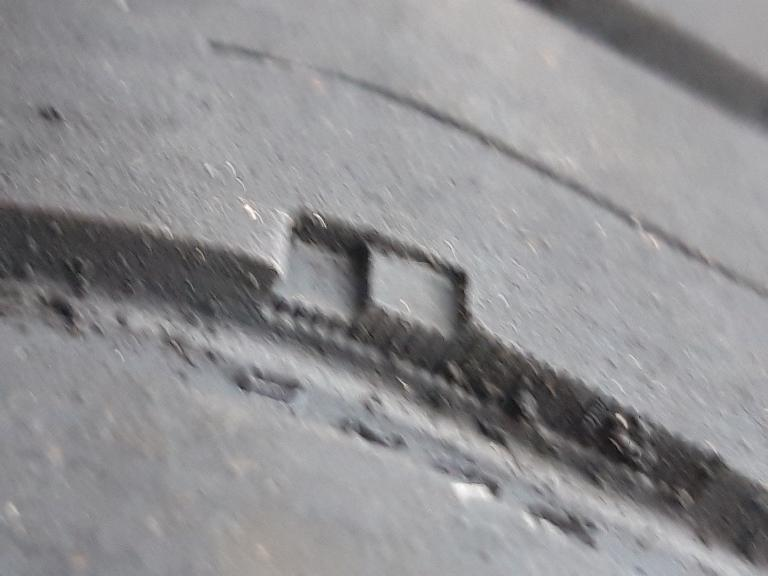temoin:25: (240, 194, 490, 405)
